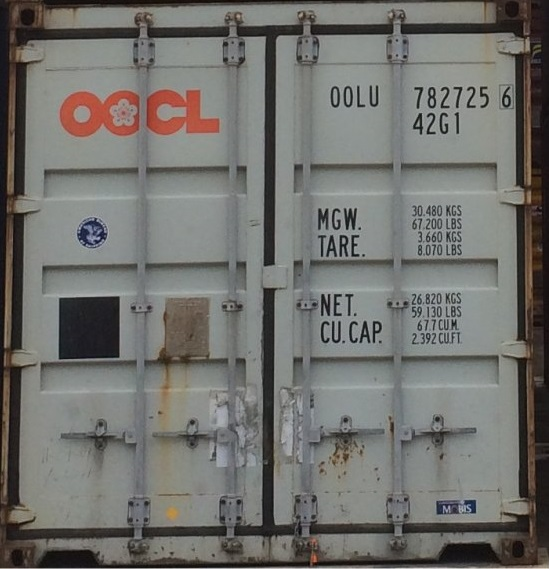container_door: (4, 11, 530, 560)
